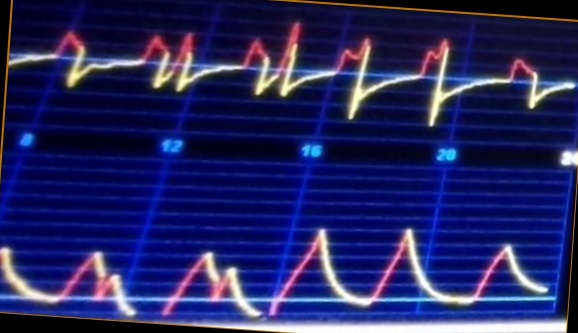Double_Triggering Flow: (42, 23, 539, 128)
Double_Triggering Volume: (33, 226, 541, 316)
